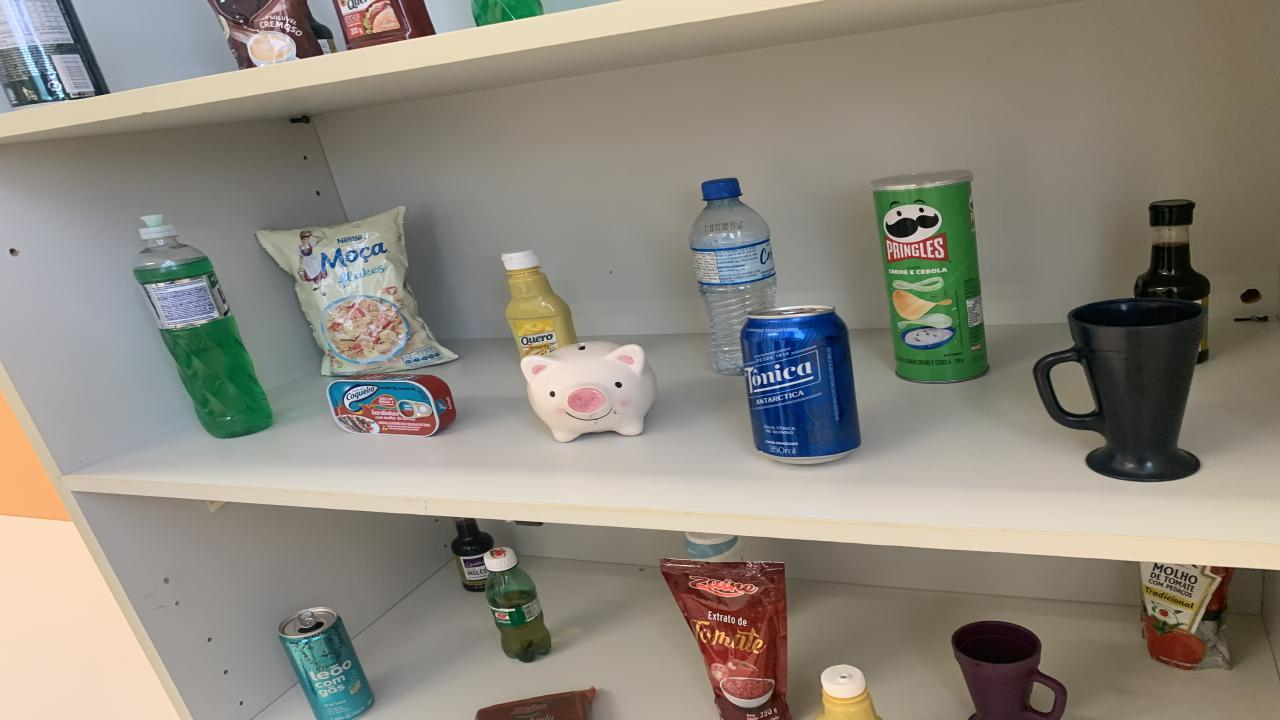Cleaner-Cleanup_Items: (685, 532, 742, 562)
Coffee-Pantry_Items: (208, 0, 330, 69)
Detergent-Cleanup_Items: (132, 216, 272, 437), (472, 0, 542, 26)
English_Sauce-Pantry_Items: (1135, 199, 1210, 309), (450, 518, 495, 592), (1198, 322, 1210, 362)
Flakes-Snacks: (255, 206, 458, 377), (258, 206, 458, 377)
Guarana-Drinks: (482, 548, 550, 662)
Guava-Snacks: (475, 686, 595, 720)
Ketchup-Pantry_Items: (332, 0, 435, 49)
Mustard-Pantry_Items: (502, 249, 578, 358), (818, 664, 880, 720)
Pig_Safe-Miscellaneous: (520, 341, 658, 442)
Pringles-Snacks: (872, 171, 990, 382)
Tea-Drinks: (278, 608, 375, 720)
Tomato_Sauce-Pantry_Items: (660, 559, 792, 720), (1140, 562, 1232, 669)
Tonic-Drinks: (740, 306, 860, 463)
Tuna_Can-Pantry_Items: (328, 375, 455, 437)
Water_Bottle-Drinks: (688, 178, 778, 375)
